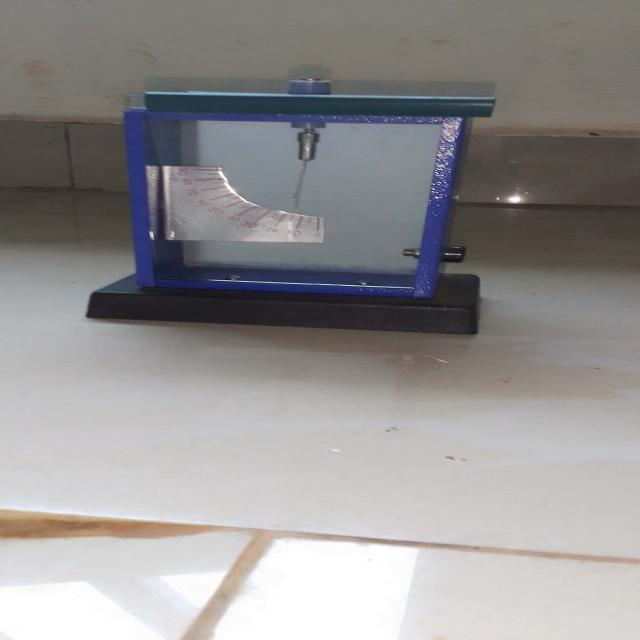Electroscope: (78, 62, 525, 348)
